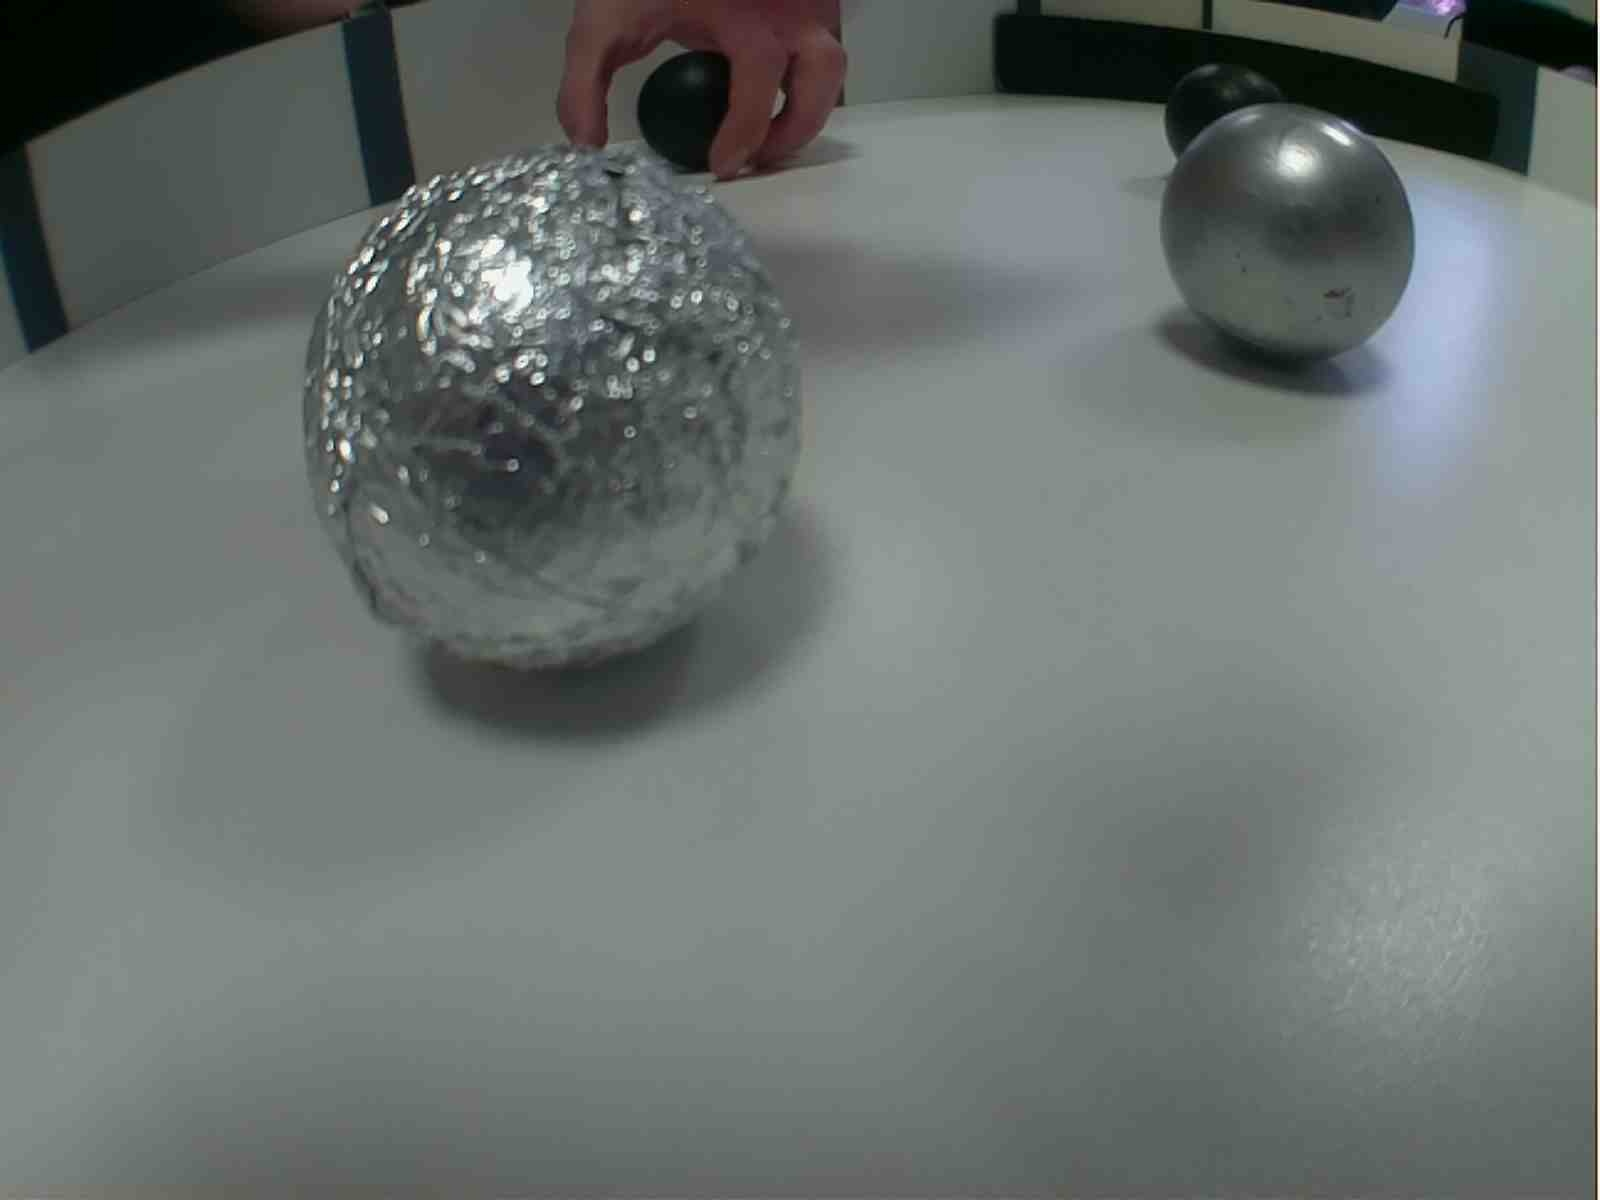bianca: (291, 142, 828, 679), (1158, 105, 1417, 363)
nera: (631, 50, 760, 179), (1155, 58, 1280, 183)
